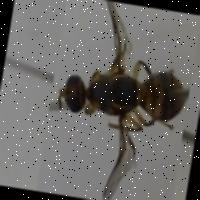Oriental-fruit-fly: (36, 0, 200, 200)
